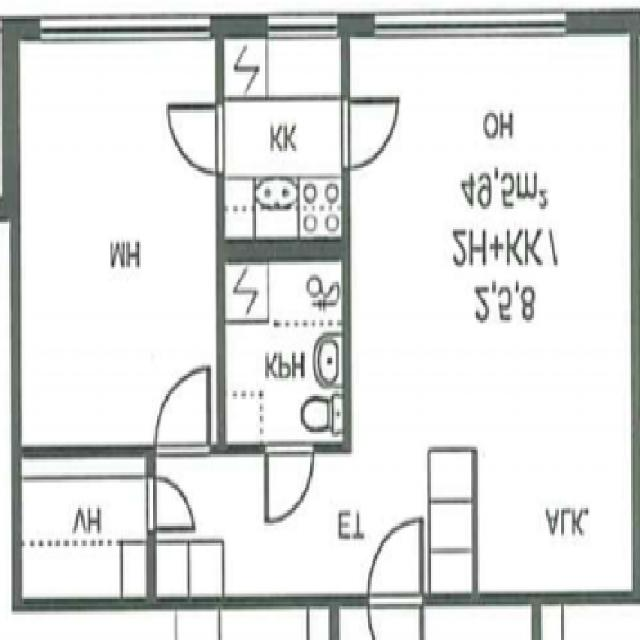door: (368, 520, 422, 607), (156, 371, 209, 456), (342, 100, 400, 171), (168, 106, 226, 174), (266, 444, 312, 520), (148, 479, 192, 530)
